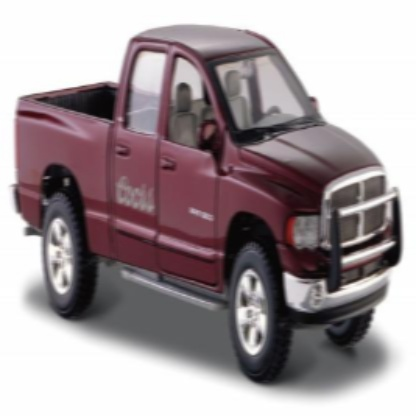Vehicle: (12, 21, 404, 389)
